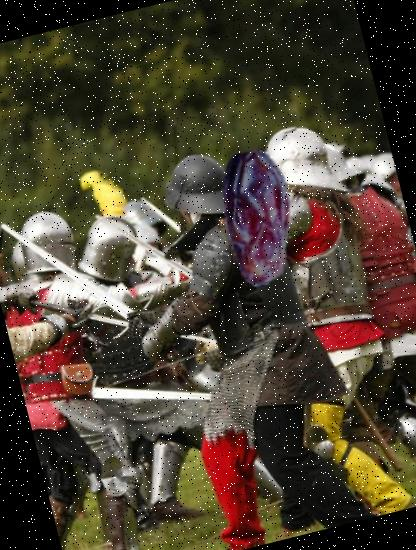Dates: (178, 136, 341, 300)
